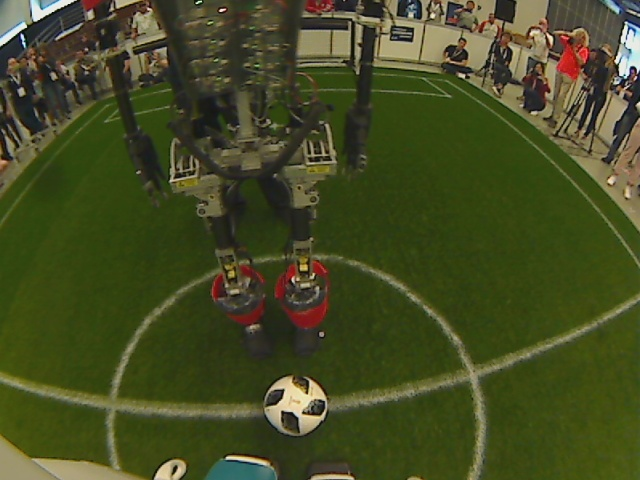ball: (262, 371, 331, 440)
